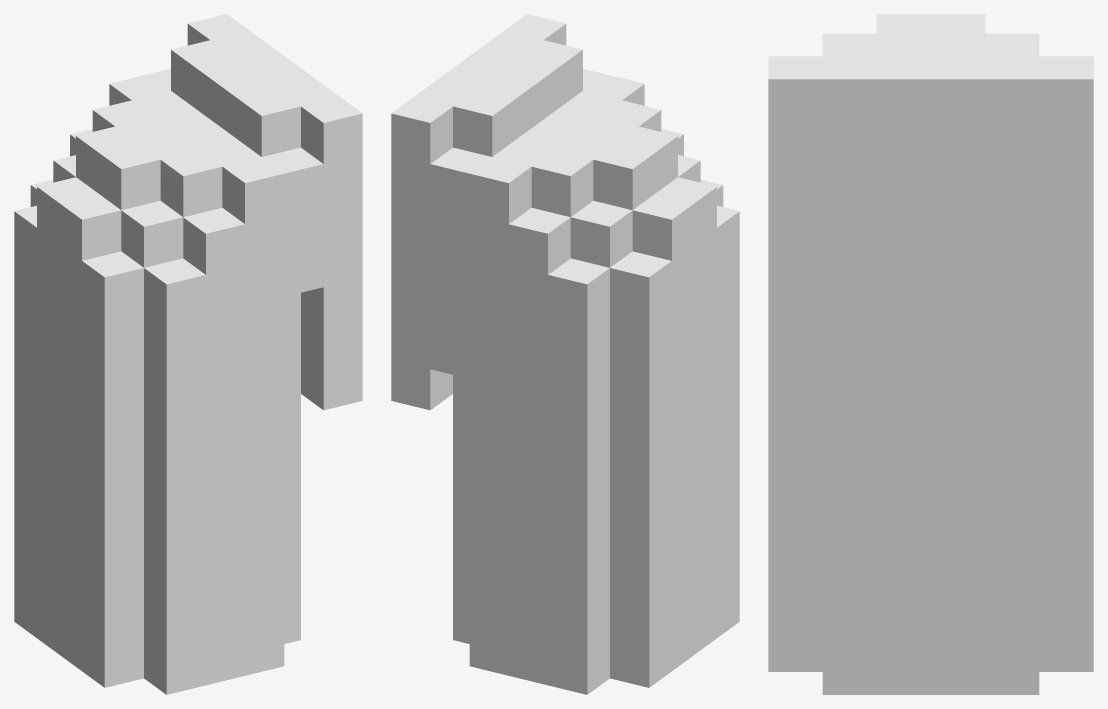
File: reka_g2.dae
3 renders of one model, left to right at view 1: azimuth 30°, elevation 25°; view 2: azimuth 150°, elevation 25°; view 3: azimuth 270°, elevation 25°, orthographic. The views are drawn at different scales.
Visible parts, largest first — view 1: Content; view 2: Content; view 3: Content.
Boxes of the visible parts, box(x1,y1,x2,y2) form: Content: box(14, 14, 362, 694); Content: box(391, 14, 739, 694); Content: box(768, 14, 1093, 694).
Bounding box in the file's own units: 6 × 13 × 6.
1 material, 1 textured.
